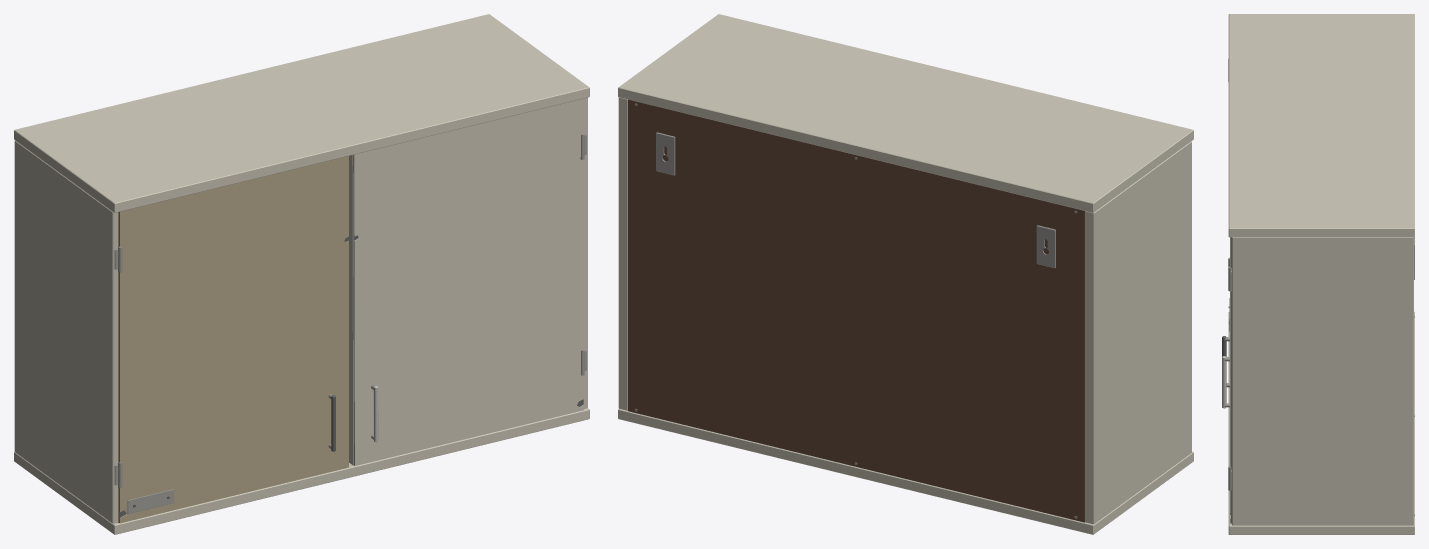
Rendered from kitchen-wall-cabinet-9673901ad1ed.glb.
The picture shows the model from 3 angles, left to right: view 1: azimuth 30°, elevation 25°; view 2: azimuth 150°, elevation 25°; view 3: azimuth 270°, elevation 25°; orthographic projection. The views are drawn at different scales.
Parts seen in each view (by area): view 1: enamel, paint-rescued-cream, paint-rescued-beige, brushed, metal; view 2: wood, enamel, brushed; view 3: enamel, brushed, metal, chrome.
Boxes of the visible parts, left/top/right/bottom form: enamel: left=14, top=14, right=589, bottom=534; paint-rescued-cream: left=354, top=99, right=583, bottom=465; paint-rescued-beige: left=119, top=156, right=348, bottom=523; brushed: left=114, top=133, right=586, bottom=513; metal: left=119, top=154, right=583, bottom=522; wood: left=628, top=99, right=1084, bottom=522; enamel: left=618, top=14, right=1193, bottom=534; brushed: left=634, top=103, right=1077, bottom=518; enamel: left=1228, top=14, right=1414, bottom=534; brushed: left=1224, top=59, right=1414, bottom=516; metal: left=1222, top=237, right=1230, bottom=523; chrome: left=1222, top=356, right=1226, bottom=408.
Bounding box in the file's own units: 0.9 × 0.6 × 0.342.
